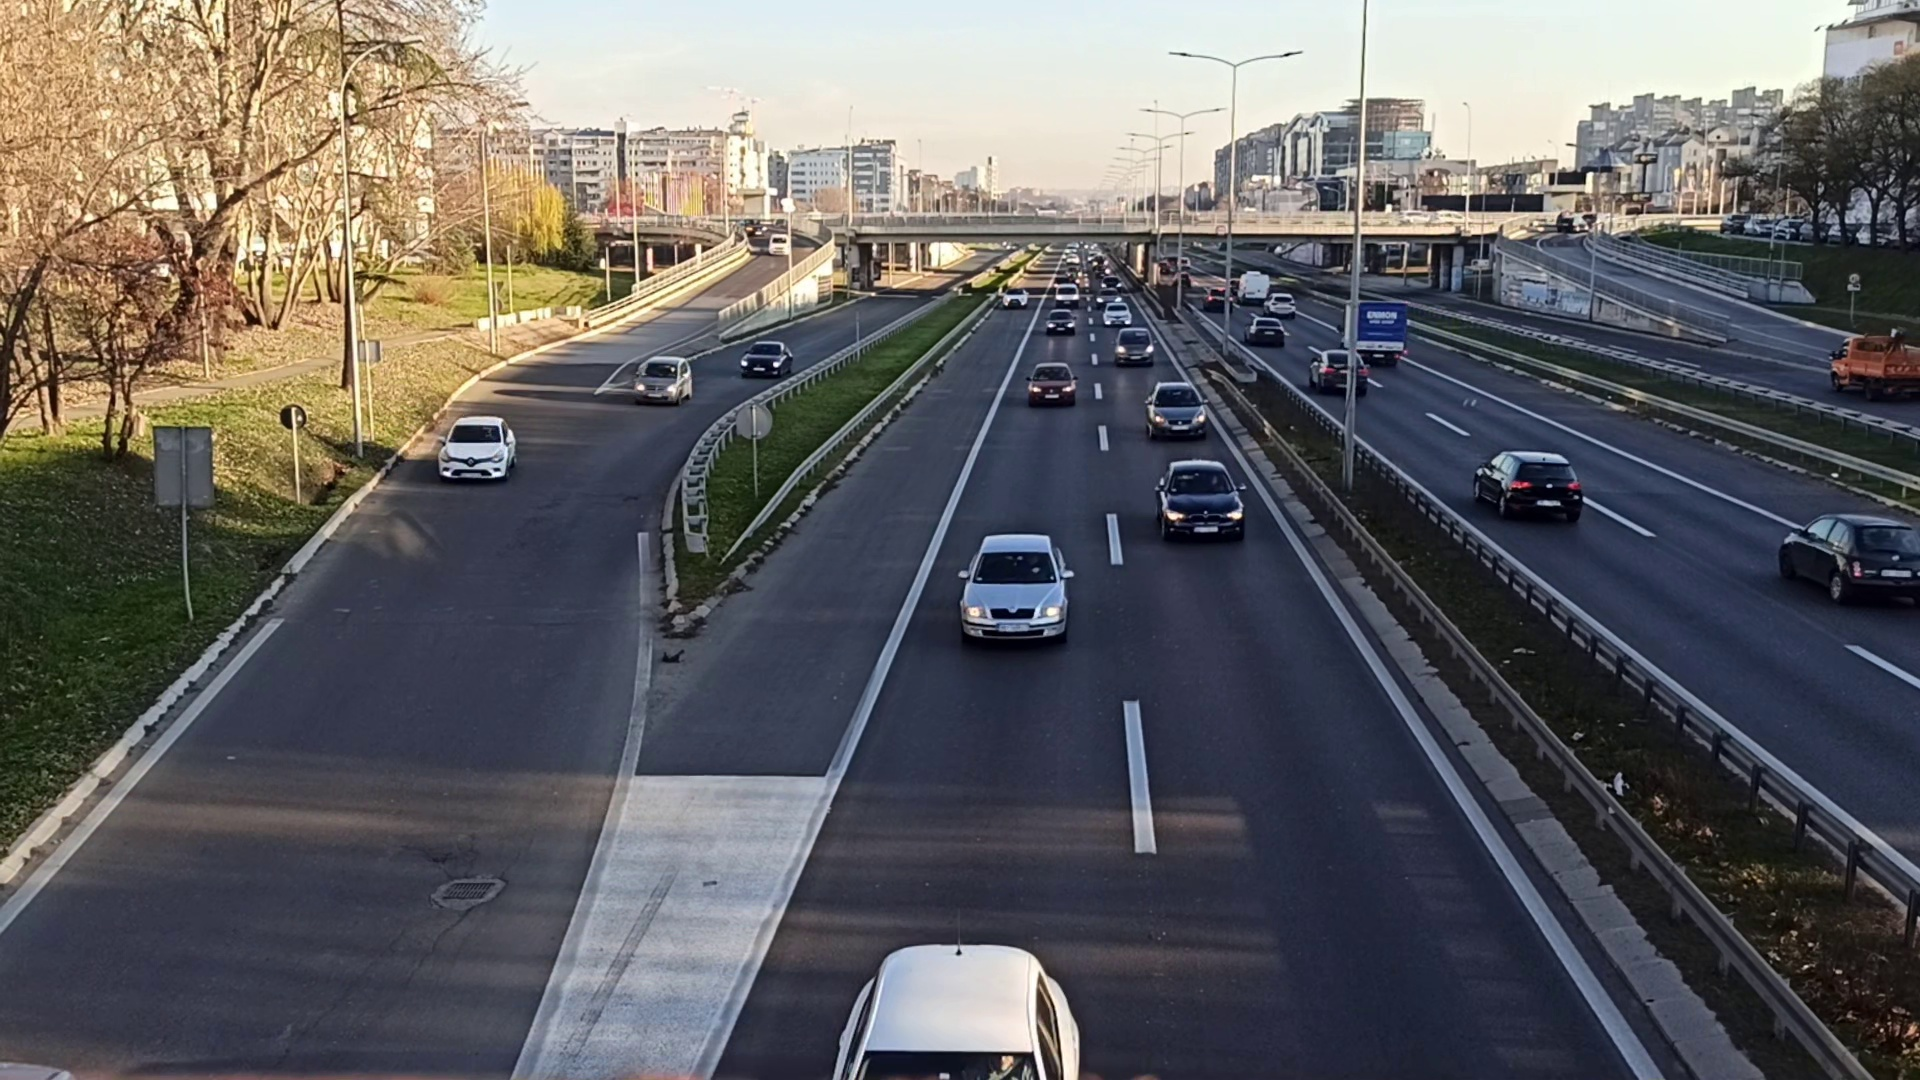car: (829, 945, 1083, 1080), (1782, 516, 1920, 607), (960, 534, 1069, 637), (1476, 448, 1584, 524), (1156, 458, 1249, 543), (439, 415, 520, 484), (1145, 380, 1208, 440), (637, 356, 694, 404), (1307, 349, 1366, 393), (1027, 363, 1077, 405), (740, 340, 793, 378), (1114, 327, 1151, 365), (1044, 309, 1076, 338), (1102, 305, 1131, 324)
truck: (1829, 334, 1920, 401)
